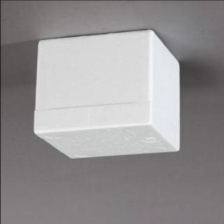foam_box: (27, 25, 186, 163)
